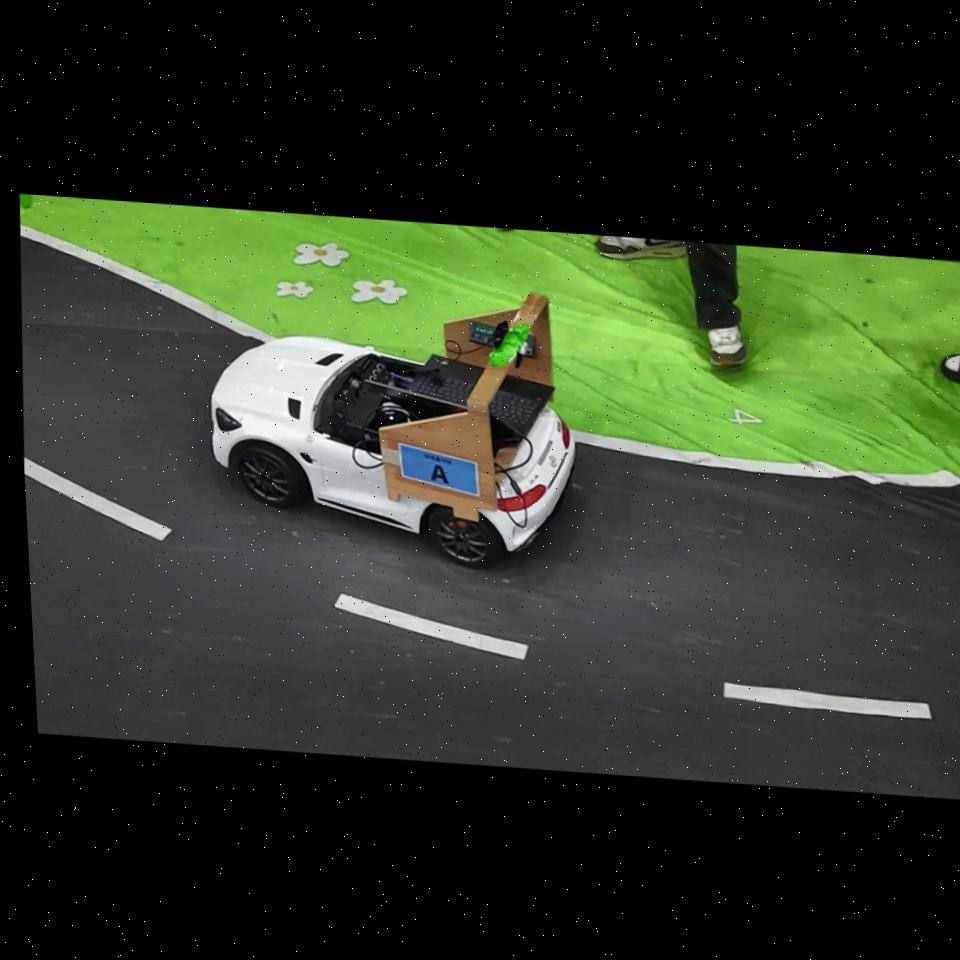broken_line: (334, 594, 527, 659), (24, 457, 171, 540), (723, 682, 931, 718)
